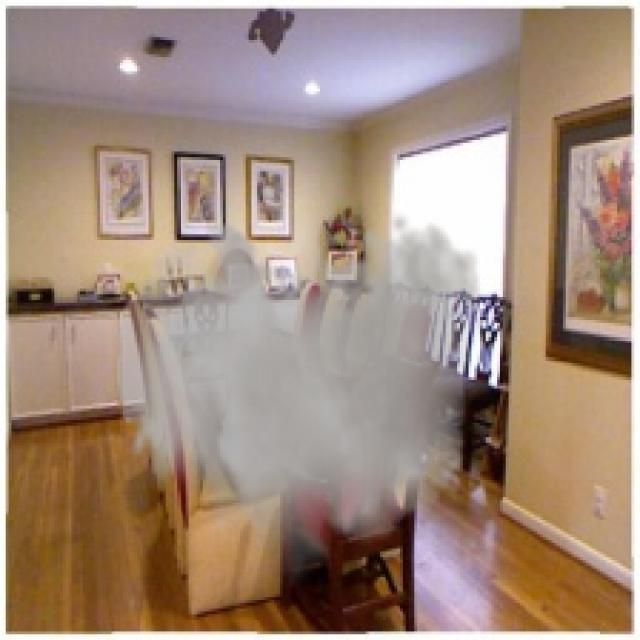Smoke: (117, 212, 483, 592)
